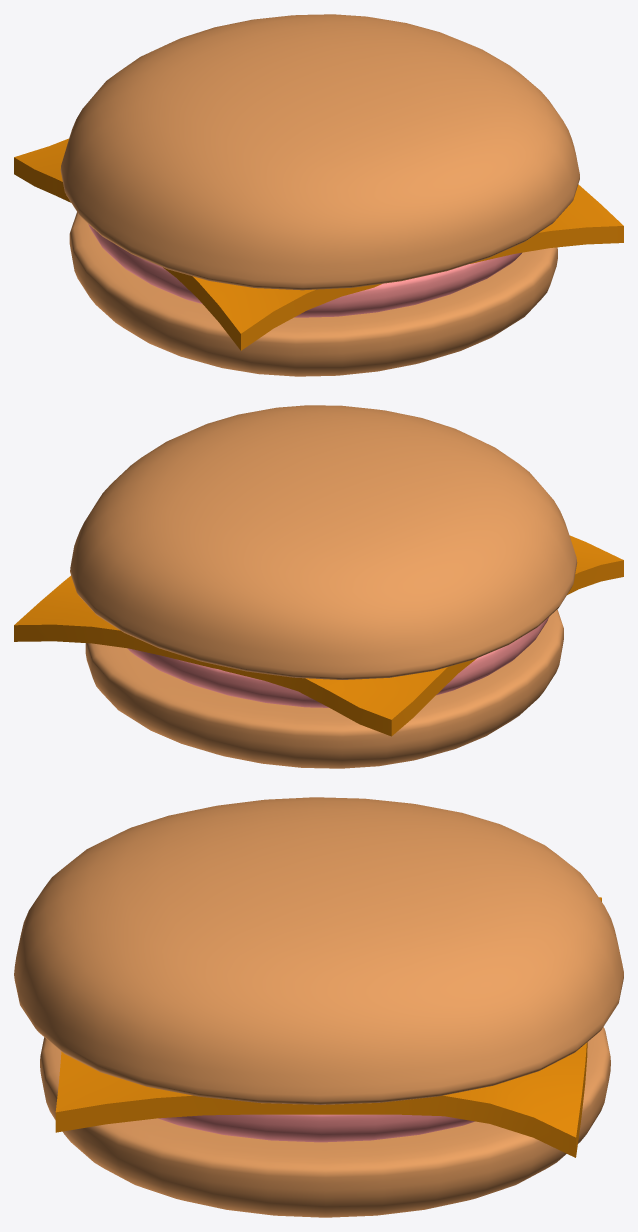
The model's file is hamburger2.glb.
3 views of the same model, one above another, from view 1: azimuth 30°, elevation 25°; view 2: azimuth 150°, elevation 25°; view 3: azimuth 270°, elevation 25° (orthographic). The views are drawn at different scales.
Parts seen in each view (by area): view 1: Cube.002, Cube, Plane, Cube.001; view 2: Cube.002, Cube, Plane, Cube.001; view 3: Cube.002, Cube, Plane, Cube.001.
Boxes of the visible parts, bbox=[...] form: Cube.002: bbox=[60, 14, 579, 290]; Cube: bbox=[69, 212, 557, 376]; Plane: bbox=[14, 138, 623, 350]; Cube.001: bbox=[88, 224, 521, 317]; Cube.002: bbox=[70, 405, 577, 679]; Cube: bbox=[85, 609, 563, 768]; Plane: bbox=[14, 535, 623, 736]; Cube.001: bbox=[127, 617, 548, 707]; Cube.002: bbox=[14, 797, 623, 1104]; Cube: bbox=[40, 1027, 610, 1217]; Plane: bbox=[55, 897, 601, 1157]; Cube.001: bbox=[158, 1114, 474, 1142].
Bounding box in the file's own units: 7.04 × 3.68 × 7.1.
